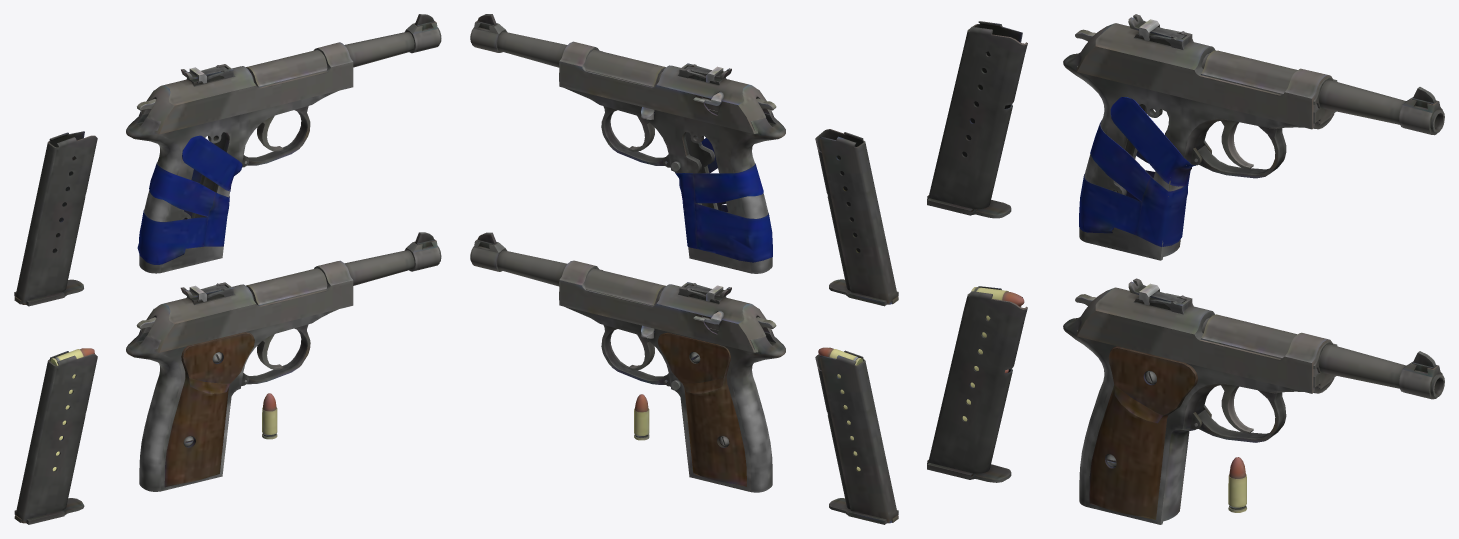
The model's file is service_pistol.glb.
The picture shows the model from 3 angles, left to right: view 1: azimuth 30°, elevation 25°; view 2: azimuth 150°, elevation 25°; view 3: azimuth 330°, elevation 25°; orthographic projection. The views are drawn at different scales.
Parts seen in each view (by area): view 1: service_pistol_pistol_a; view 2: service_pistol_pistol_a; view 3: service_pistol_pistol_a.
Part boxes in pixels (x1,y1,x2,y2): service_pistol_pistol_a: (14,14,441,524); service_pistol_pistol_a: (470,14,898,524); service_pistol_pistol_a: (927,14,1444,524).
Bounding box in the file's own units: 0.3016 × 0.2807 × 0.0318.
1 material, 1 textured.
